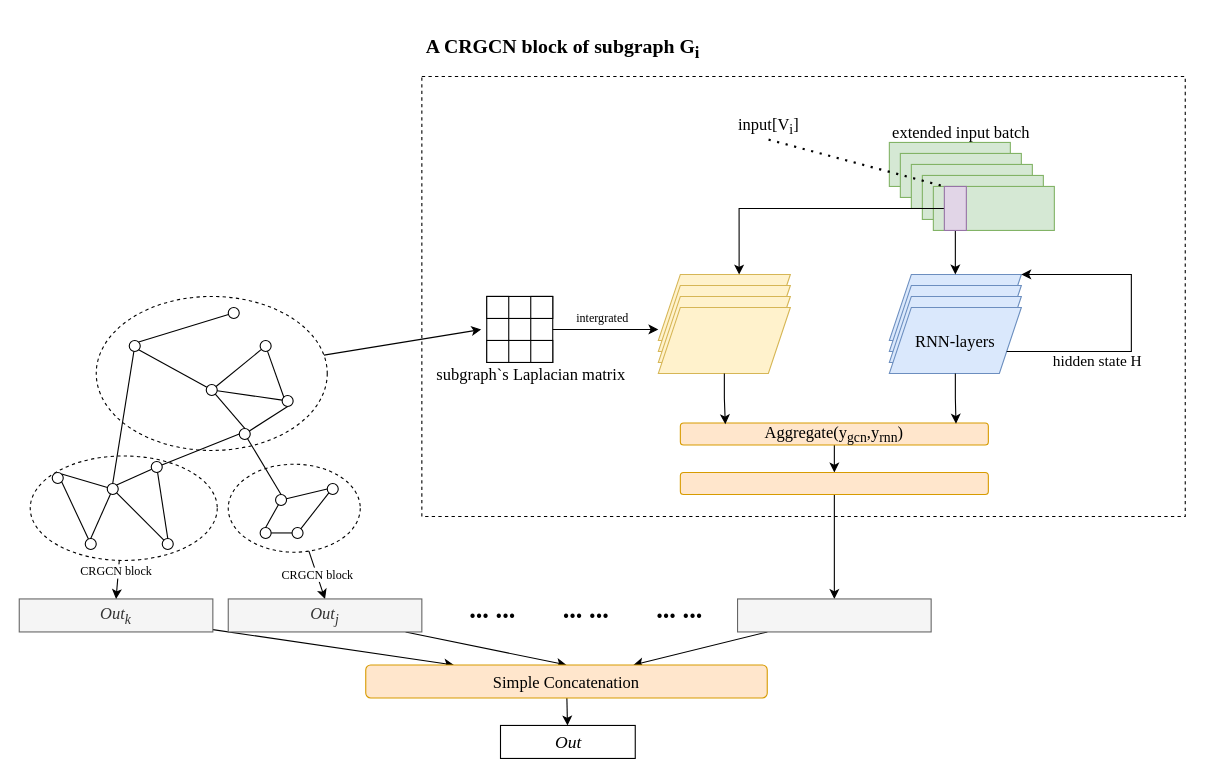
Some shapes in this 1205 by 778 pixel diagram are drawn without their labels. The shapes that lost their labels are listed below. From the top down, each one's centre as x and y in pixels, then its label:
At point 723,339: "GCN-layers".
At point 833,482: "BatchNorm".
At point 833,615: "Out i".
